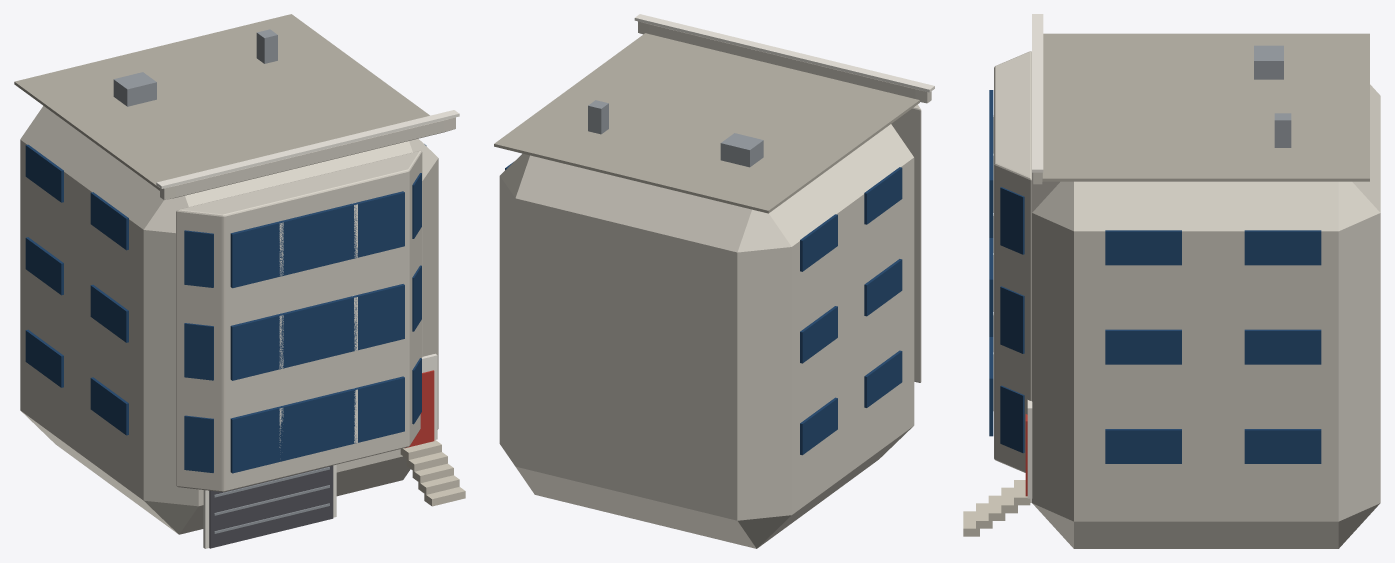
File: rich_w11_tall.glb
3 renders of one model, left to right at view 1: azimuth 30°, elevation 25°; view 2: azimuth 150°, elevation 25°; view 3: azimuth 270°, elevation 25°, orthographic. The views are drawn at different scales.
Parts seen in each view (by area): view 1: walls, bay, roofslab, bw.001, bw.002, bw, gdoor, pp, pcap, bwa.002, bwa.004, bwa (+14 smaller); view 2: walls, roofslab, pp, bay, pcap, sb.004, sb.008, sb, sb.010, sb.006, sb.002, hvac (+1 smaller); view 3: walls, roofslab, bay, sb.007, sb.011, sb.005, sb.009, sb.003, sb.001, pcap, bwa.005, bwa.001 (+5 smaller).
Boxes of the visible parts, x1,y1,x2,y2 form: walls: [20, 106, 438, 534]; bay: [176, 150, 422, 492]; roofslab: [14, 14, 429, 190]; bw.001: [230, 284, 404, 380]; bw.002: [230, 191, 404, 288]; bw: [230, 376, 404, 473]; gdoor: [209, 465, 333, 548]; pp: [160, 117, 455, 199]; pcap: [156, 110, 459, 188]; bwa.002: [184, 323, 213, 380]; bwa.004: [184, 230, 213, 287]; bwa: [184, 415, 213, 472]; walls: [499, 124, 914, 548]; roofslab: [494, 33, 919, 213]; pp: [638, 21, 931, 103]; bay: [891, 104, 921, 382]; pcap: [634, 14, 934, 92]; sb.004: [864, 259, 902, 316]; sb.008: [864, 167, 902, 224]; sb: [864, 350, 902, 407]; sb.010: [800, 214, 837, 271]; sb.006: [800, 306, 837, 363]; sb.002: [800, 397, 837, 455]; hvac: [720, 133, 763, 167]; walls: [1032, 84, 1380, 548]; roofslab: [1042, 33, 1369, 181]; bay: [994, 51, 1031, 472]; sb.007: [1244, 329, 1321, 364]; sb.011: [1244, 230, 1321, 265]; sb.005: [1105, 329, 1181, 364]; sb.009: [1105, 230, 1181, 265]; sb.003: [1244, 429, 1321, 463]; sb.001: [1105, 429, 1181, 463]; pcap: [1032, 14, 1043, 172]; bwa.005: [1000, 187, 1024, 254]; bwa.001: [1000, 385, 1024, 453].
Size of the model in its own units: 11.2 by 13.7 by 12.57.
